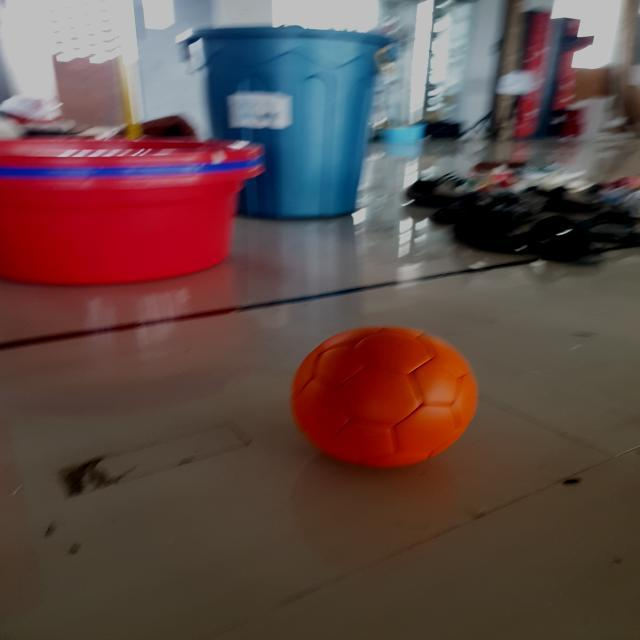bola: (282, 322, 487, 471)
